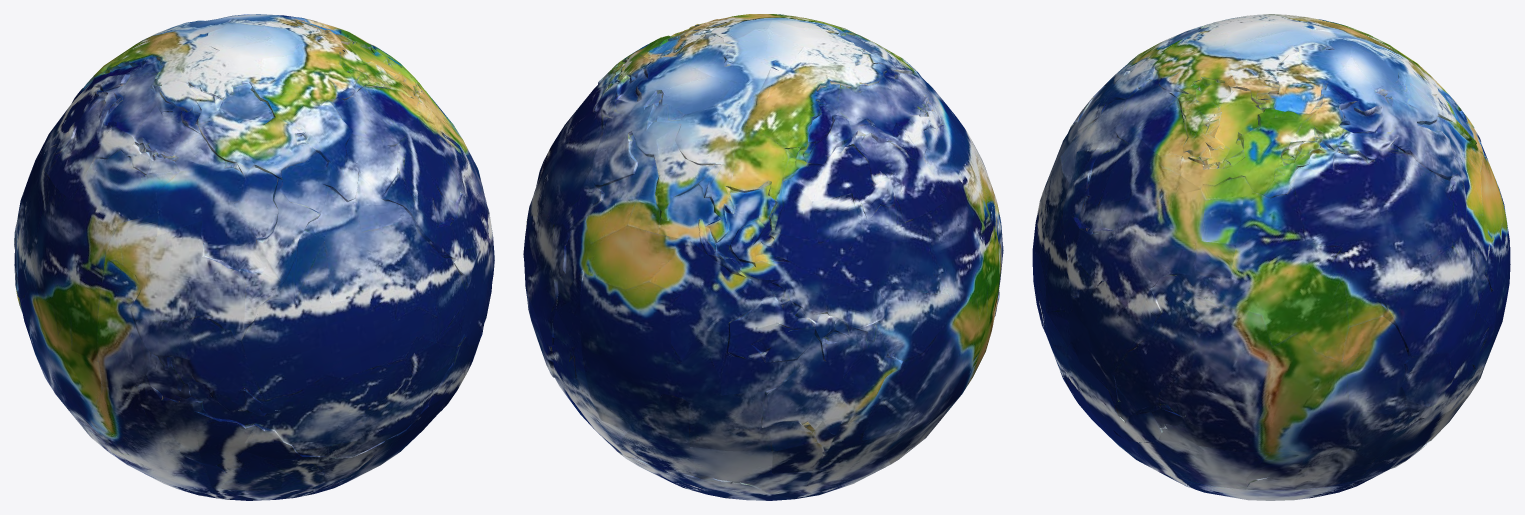
Rendered from solar-earth-clean.glb.
The picture shows the model from 3 angles, left to right: view 1: azimuth 30°, elevation 25°; view 2: azimuth 150°, elevation 25°; view 3: azimuth 270°, elevation 25°; orthographic projection.
Bounding box in the file's own units: 1.84 × 1.9 × 1.84.
Materials: 1 (1 with a texture image).
